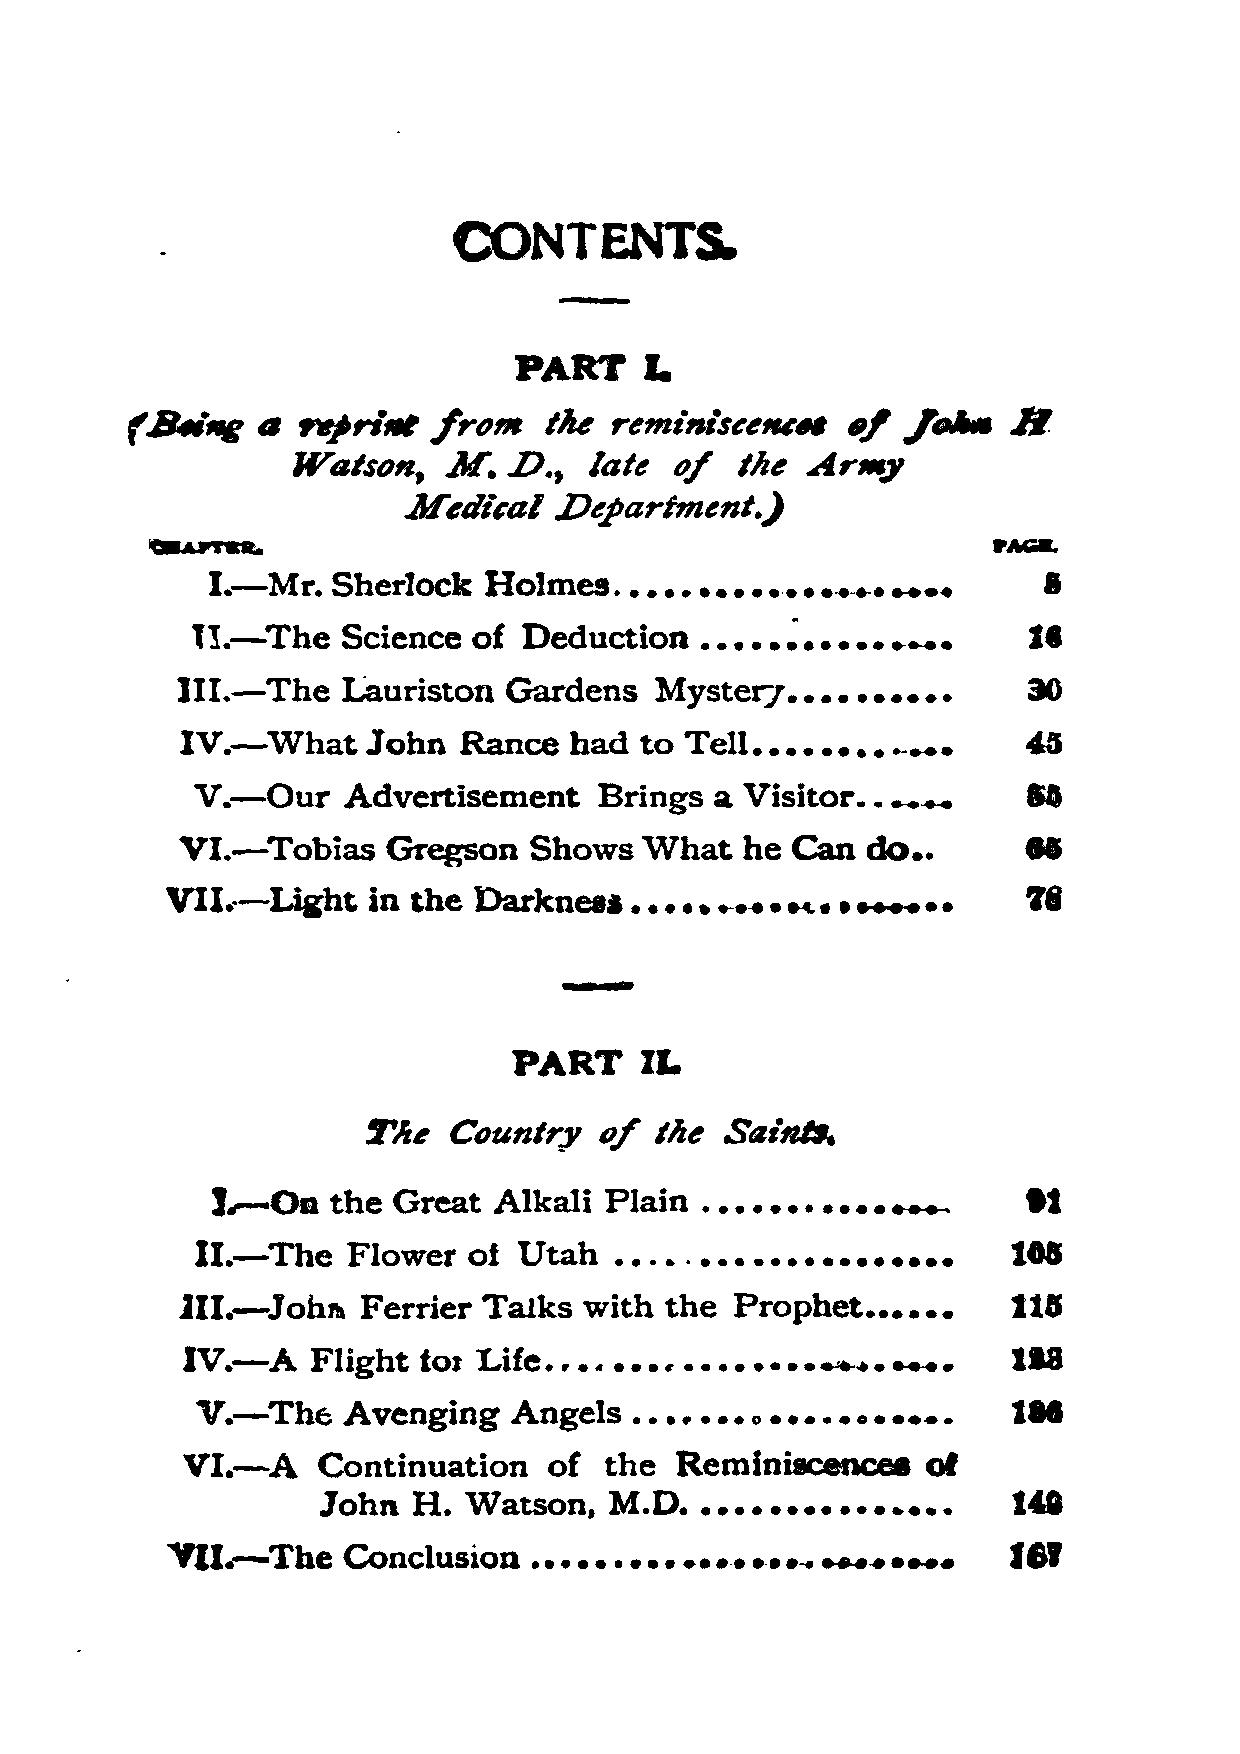TOC_chapter: (107, 346, 1064, 531), (176, 1448, 964, 1529), (356, 1049, 858, 1153), (176, 1288, 866, 1329), (174, 829, 909, 866), (191, 780, 856, 813), (173, 672, 785, 709), (158, 880, 627, 922), (193, 1390, 625, 1433), (176, 723, 749, 756), (203, 1180, 692, 1217), (189, 619, 695, 654), (204, 566, 613, 601), (191, 1235, 600, 1270), (178, 1341, 542, 1380), (166, 1541, 523, 1571)
TOC_pagenumber: (1006, 1233, 1066, 1272), (1008, 1341, 1067, 1376), (1008, 1392, 1067, 1427), (1006, 1537, 1064, 1570), (1016, 776, 1066, 815), (1009, 1286, 1064, 1321), (1011, 1483, 1062, 1519), (1024, 619, 1066, 658), (1023, 723, 1064, 761), (1020, 1184, 1064, 1219), (1023, 880, 1064, 917), (1021, 672, 1066, 705), (1024, 831, 1066, 864), (1033, 565, 1068, 597)
chapter: (446, 215, 743, 267)
